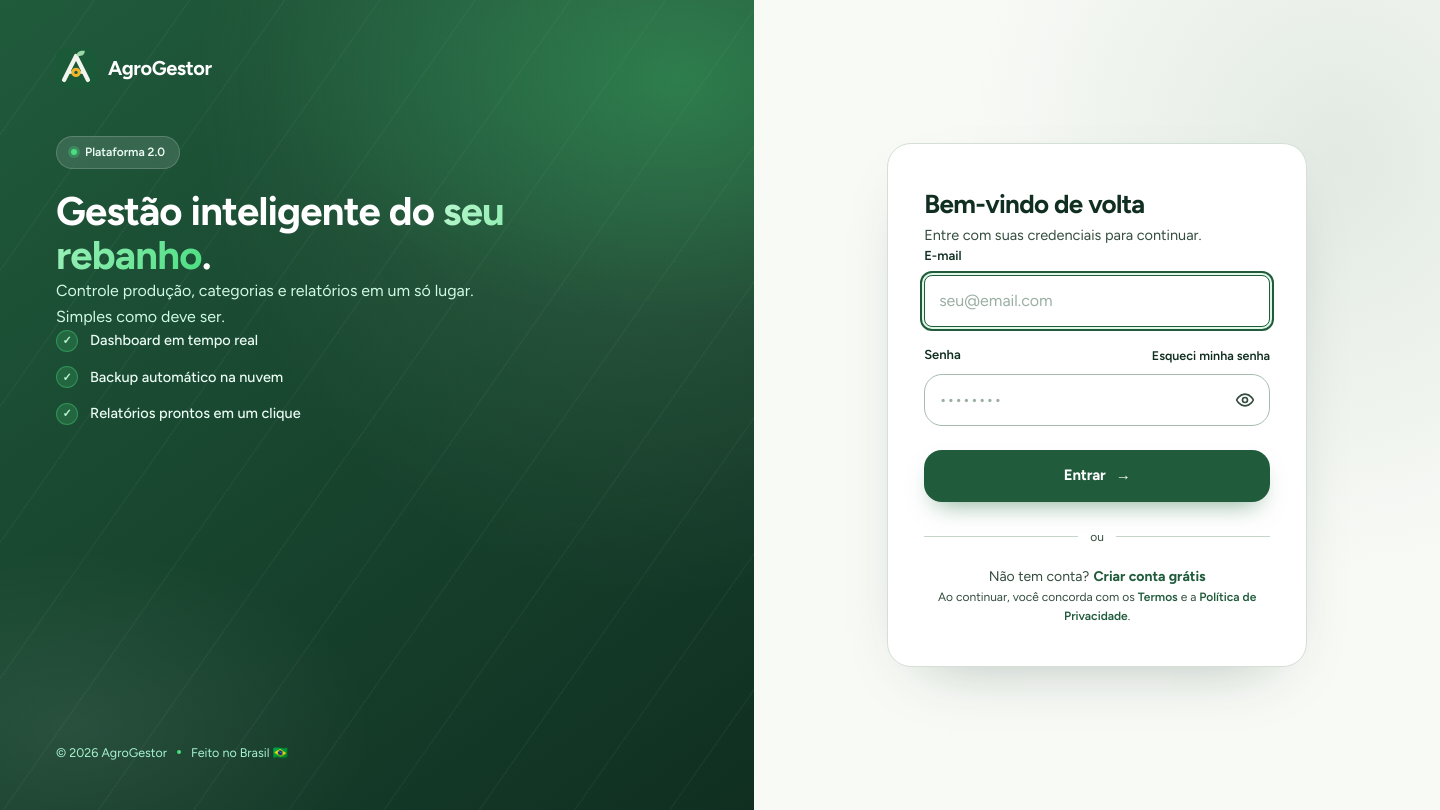
Test: login e rotas › apresenta falha de login e limpa o erro ao editar
This screenshot has width=1440, height=810.
In the field labelled "E-mail": (1097, 301) left=924, top=275, right=1270, bottom=327, type "ana@example.com"
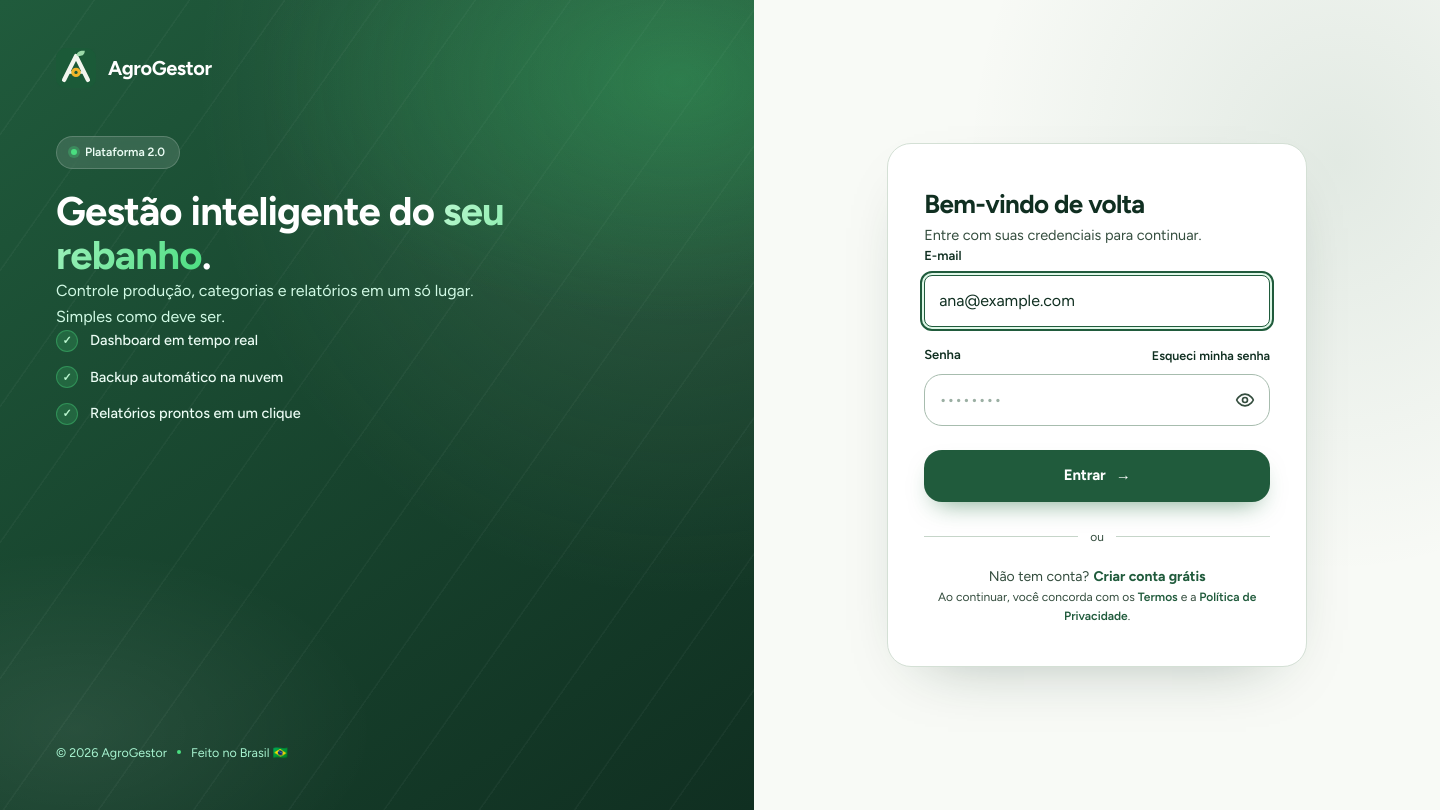
In the password field labelled "Senha": (1097, 400) left=924, top=374, right=1270, bottom=426, type "errada"
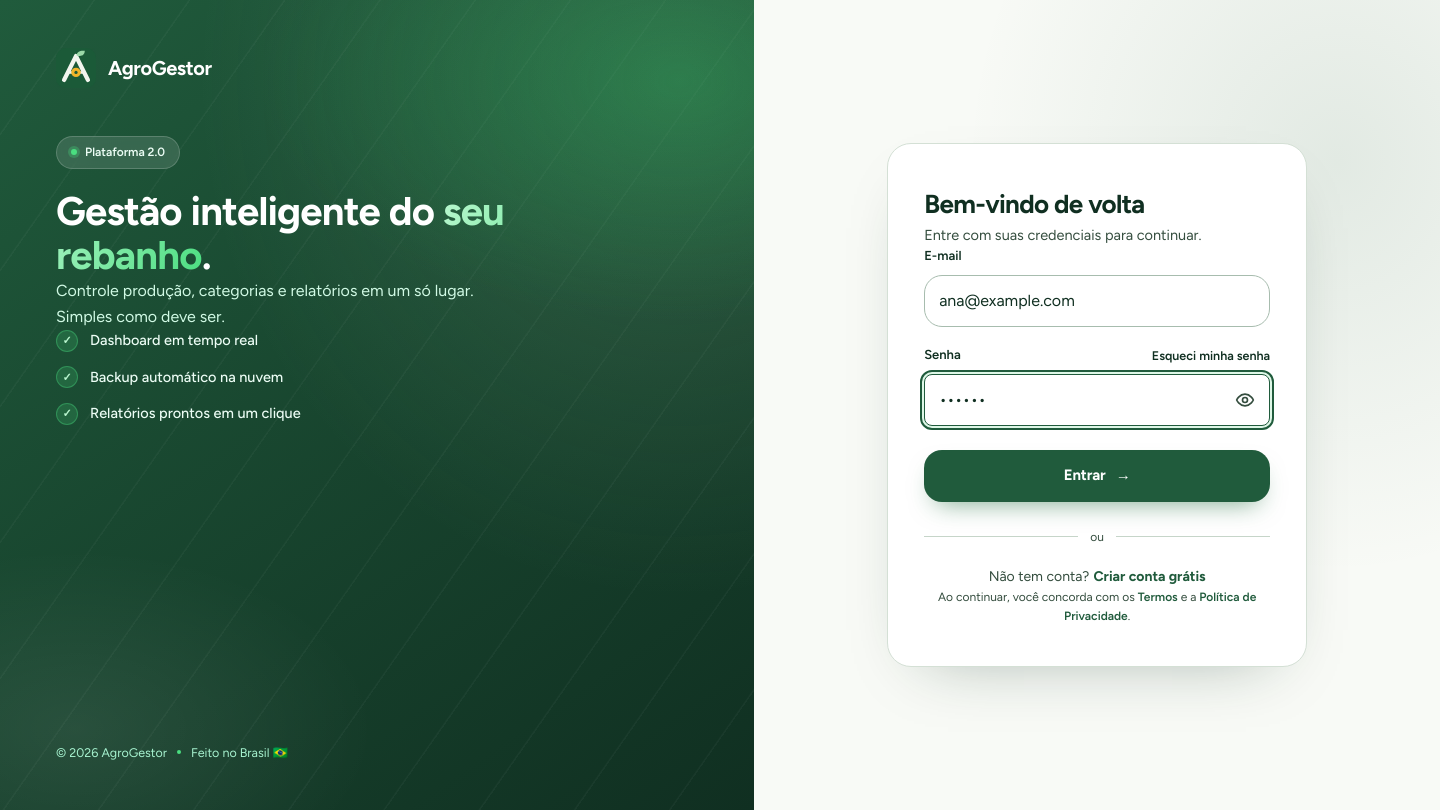
Click the button "Entrar →": (1097, 476) left=924, top=450, right=1270, bottom=502
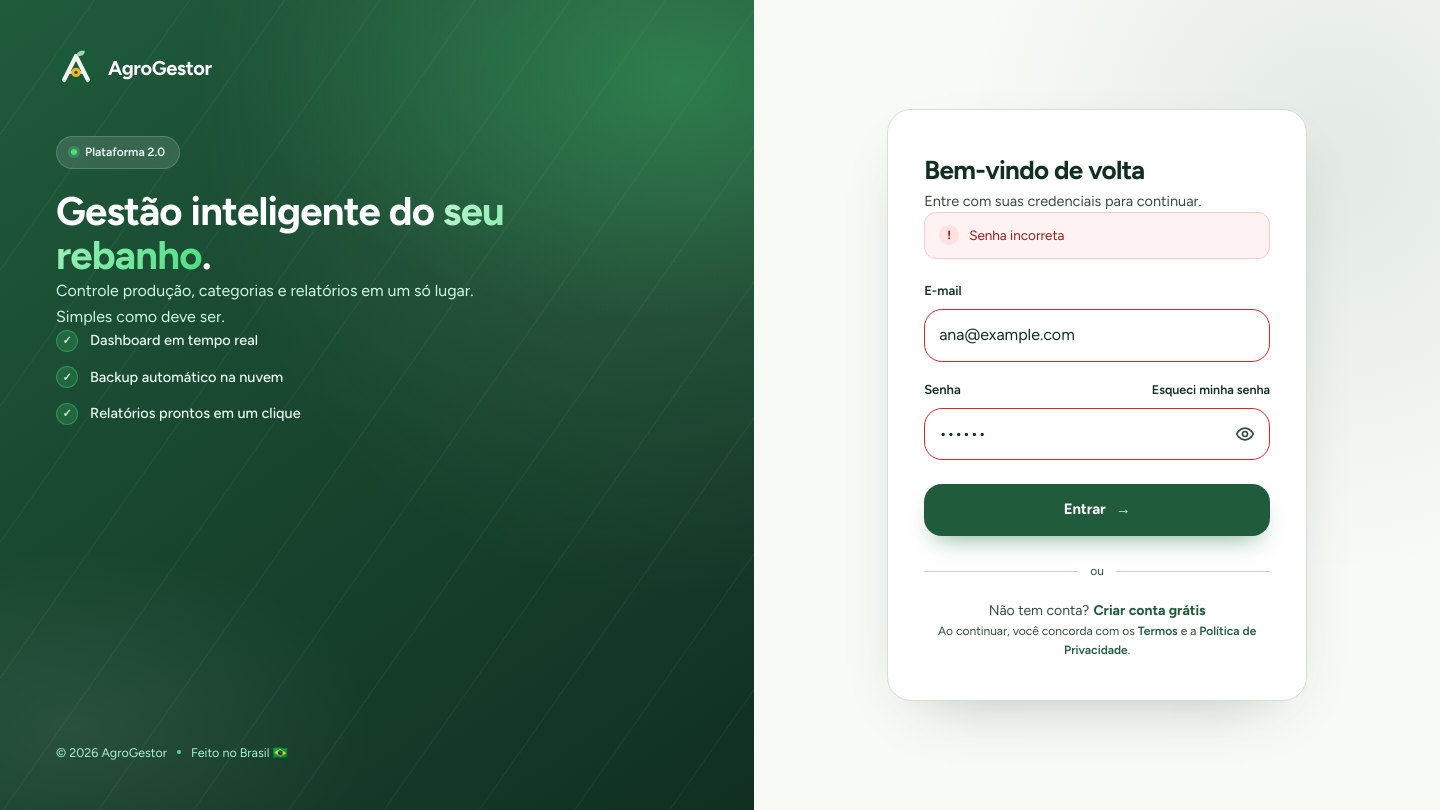
Check: the message shows "Senha incorreta", box left=969, top=227, right=1064, bottom=243
In the password field labelled "Senha": (1097, 434) left=924, top=408, right=1270, bottom=460, type "x"
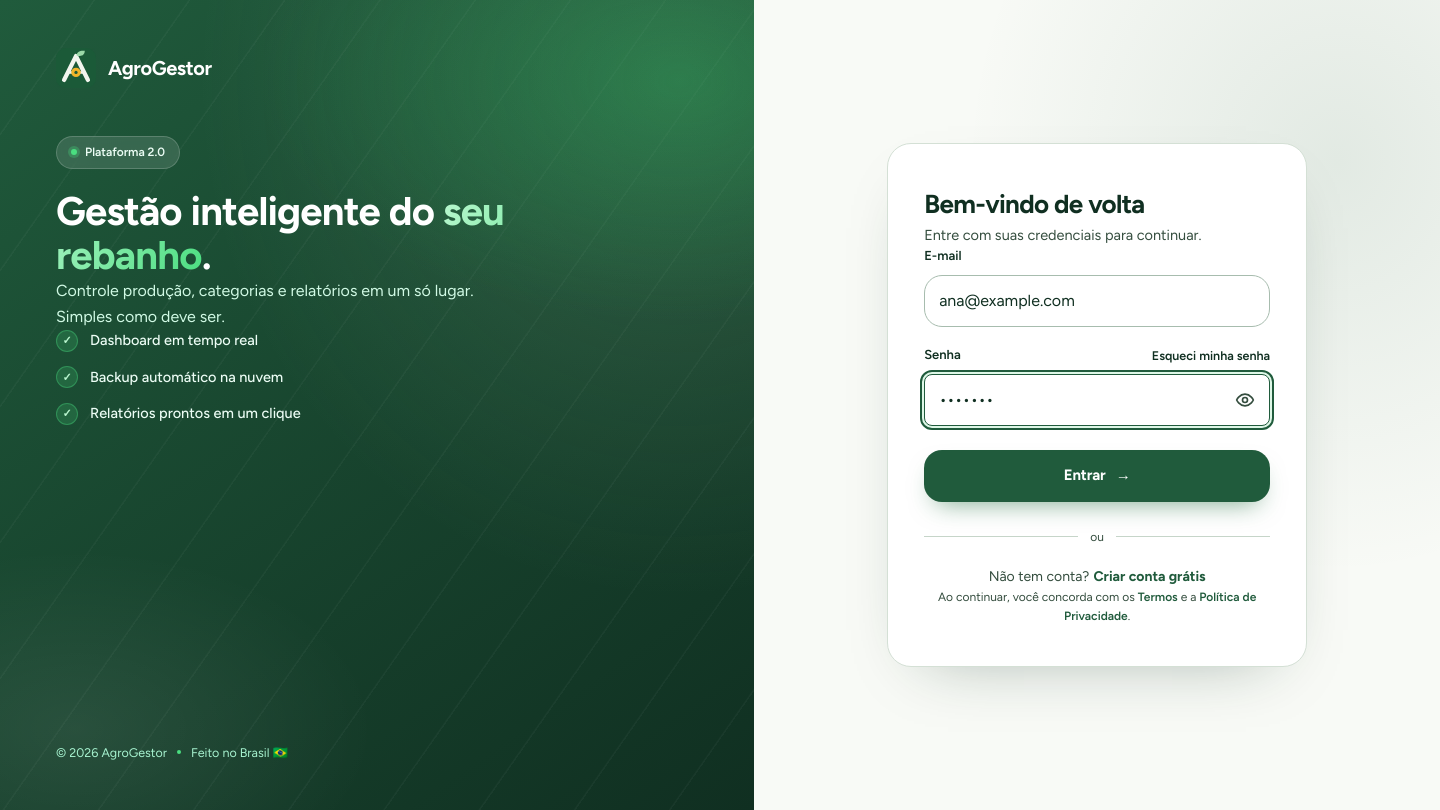
Check: the message "! Senha incorreta" is gone
